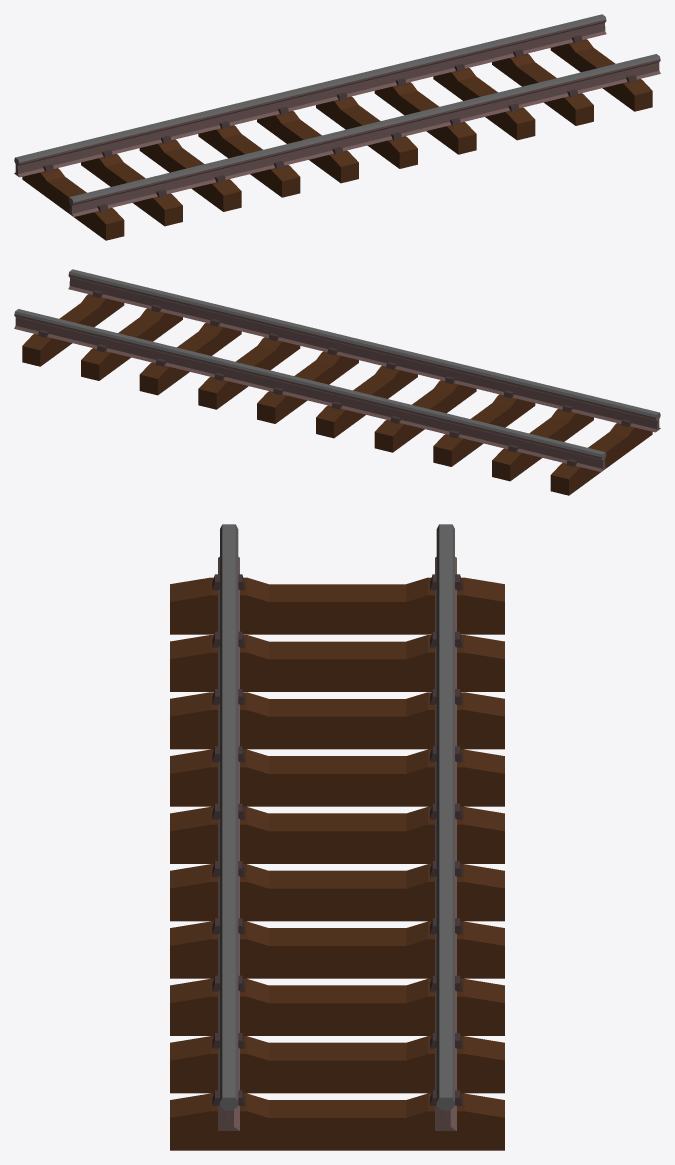
The model's file is train-track-straight.glb.
3 views of the same model, one above another, from view 1: azimuth 30°, elevation 25°; view 2: azimuth 150°, elevation 25°; view 3: azimuth 270°, elevation 25° (orthographic). The views are drawn at different scales.
Visible parts, largest first — view 1: Rails_Spline.002; view 2: Rails_Spline.002; view 3: Rails_Spline.002.
Boxes of the visible parts, x1=… form: Rails_Spline.002: x1=14, y1=14, x2=660, y2=240; Rails_Spline.002: x1=14, y1=269, x2=660, y2=495; Rails_Spline.002: x1=170, y1=524, x2=504, y2=1150.
Size of the model in its own units: 10 by 0.5934 by 2.47.
1 material, 1 textured.
